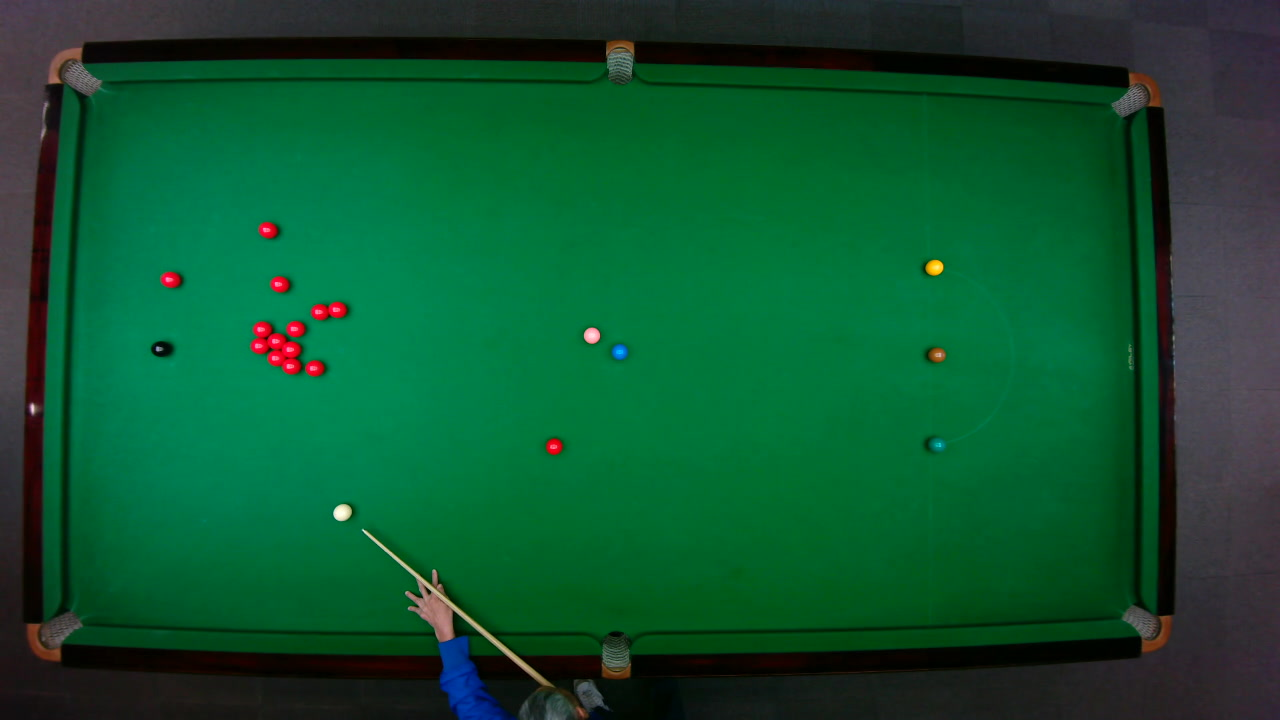bag: (25, 609, 83, 661), (45, 46, 102, 96), (1119, 603, 1172, 652), (1108, 71, 1161, 117), (601, 629, 629, 679), (605, 38, 633, 85)
black: (149, 339, 172, 357)
blue: (610, 343, 628, 360)
brown: (926, 346, 946, 362)
cue: (361, 526, 554, 698)
green: (926, 434, 946, 452)
pink: (581, 325, 601, 344)
red: (303, 358, 325, 377), (280, 339, 301, 358), (327, 299, 348, 318), (257, 220, 278, 239), (159, 270, 181, 288), (250, 319, 272, 337), (284, 319, 306, 337), (265, 331, 286, 349), (268, 275, 289, 293), (249, 336, 269, 354), (309, 302, 329, 320), (281, 357, 301, 375), (544, 437, 563, 455), (266, 350, 284, 366)
white: (331, 502, 353, 521)
yellow: (923, 258, 944, 276)
zone: (924, 266, 1013, 445)
